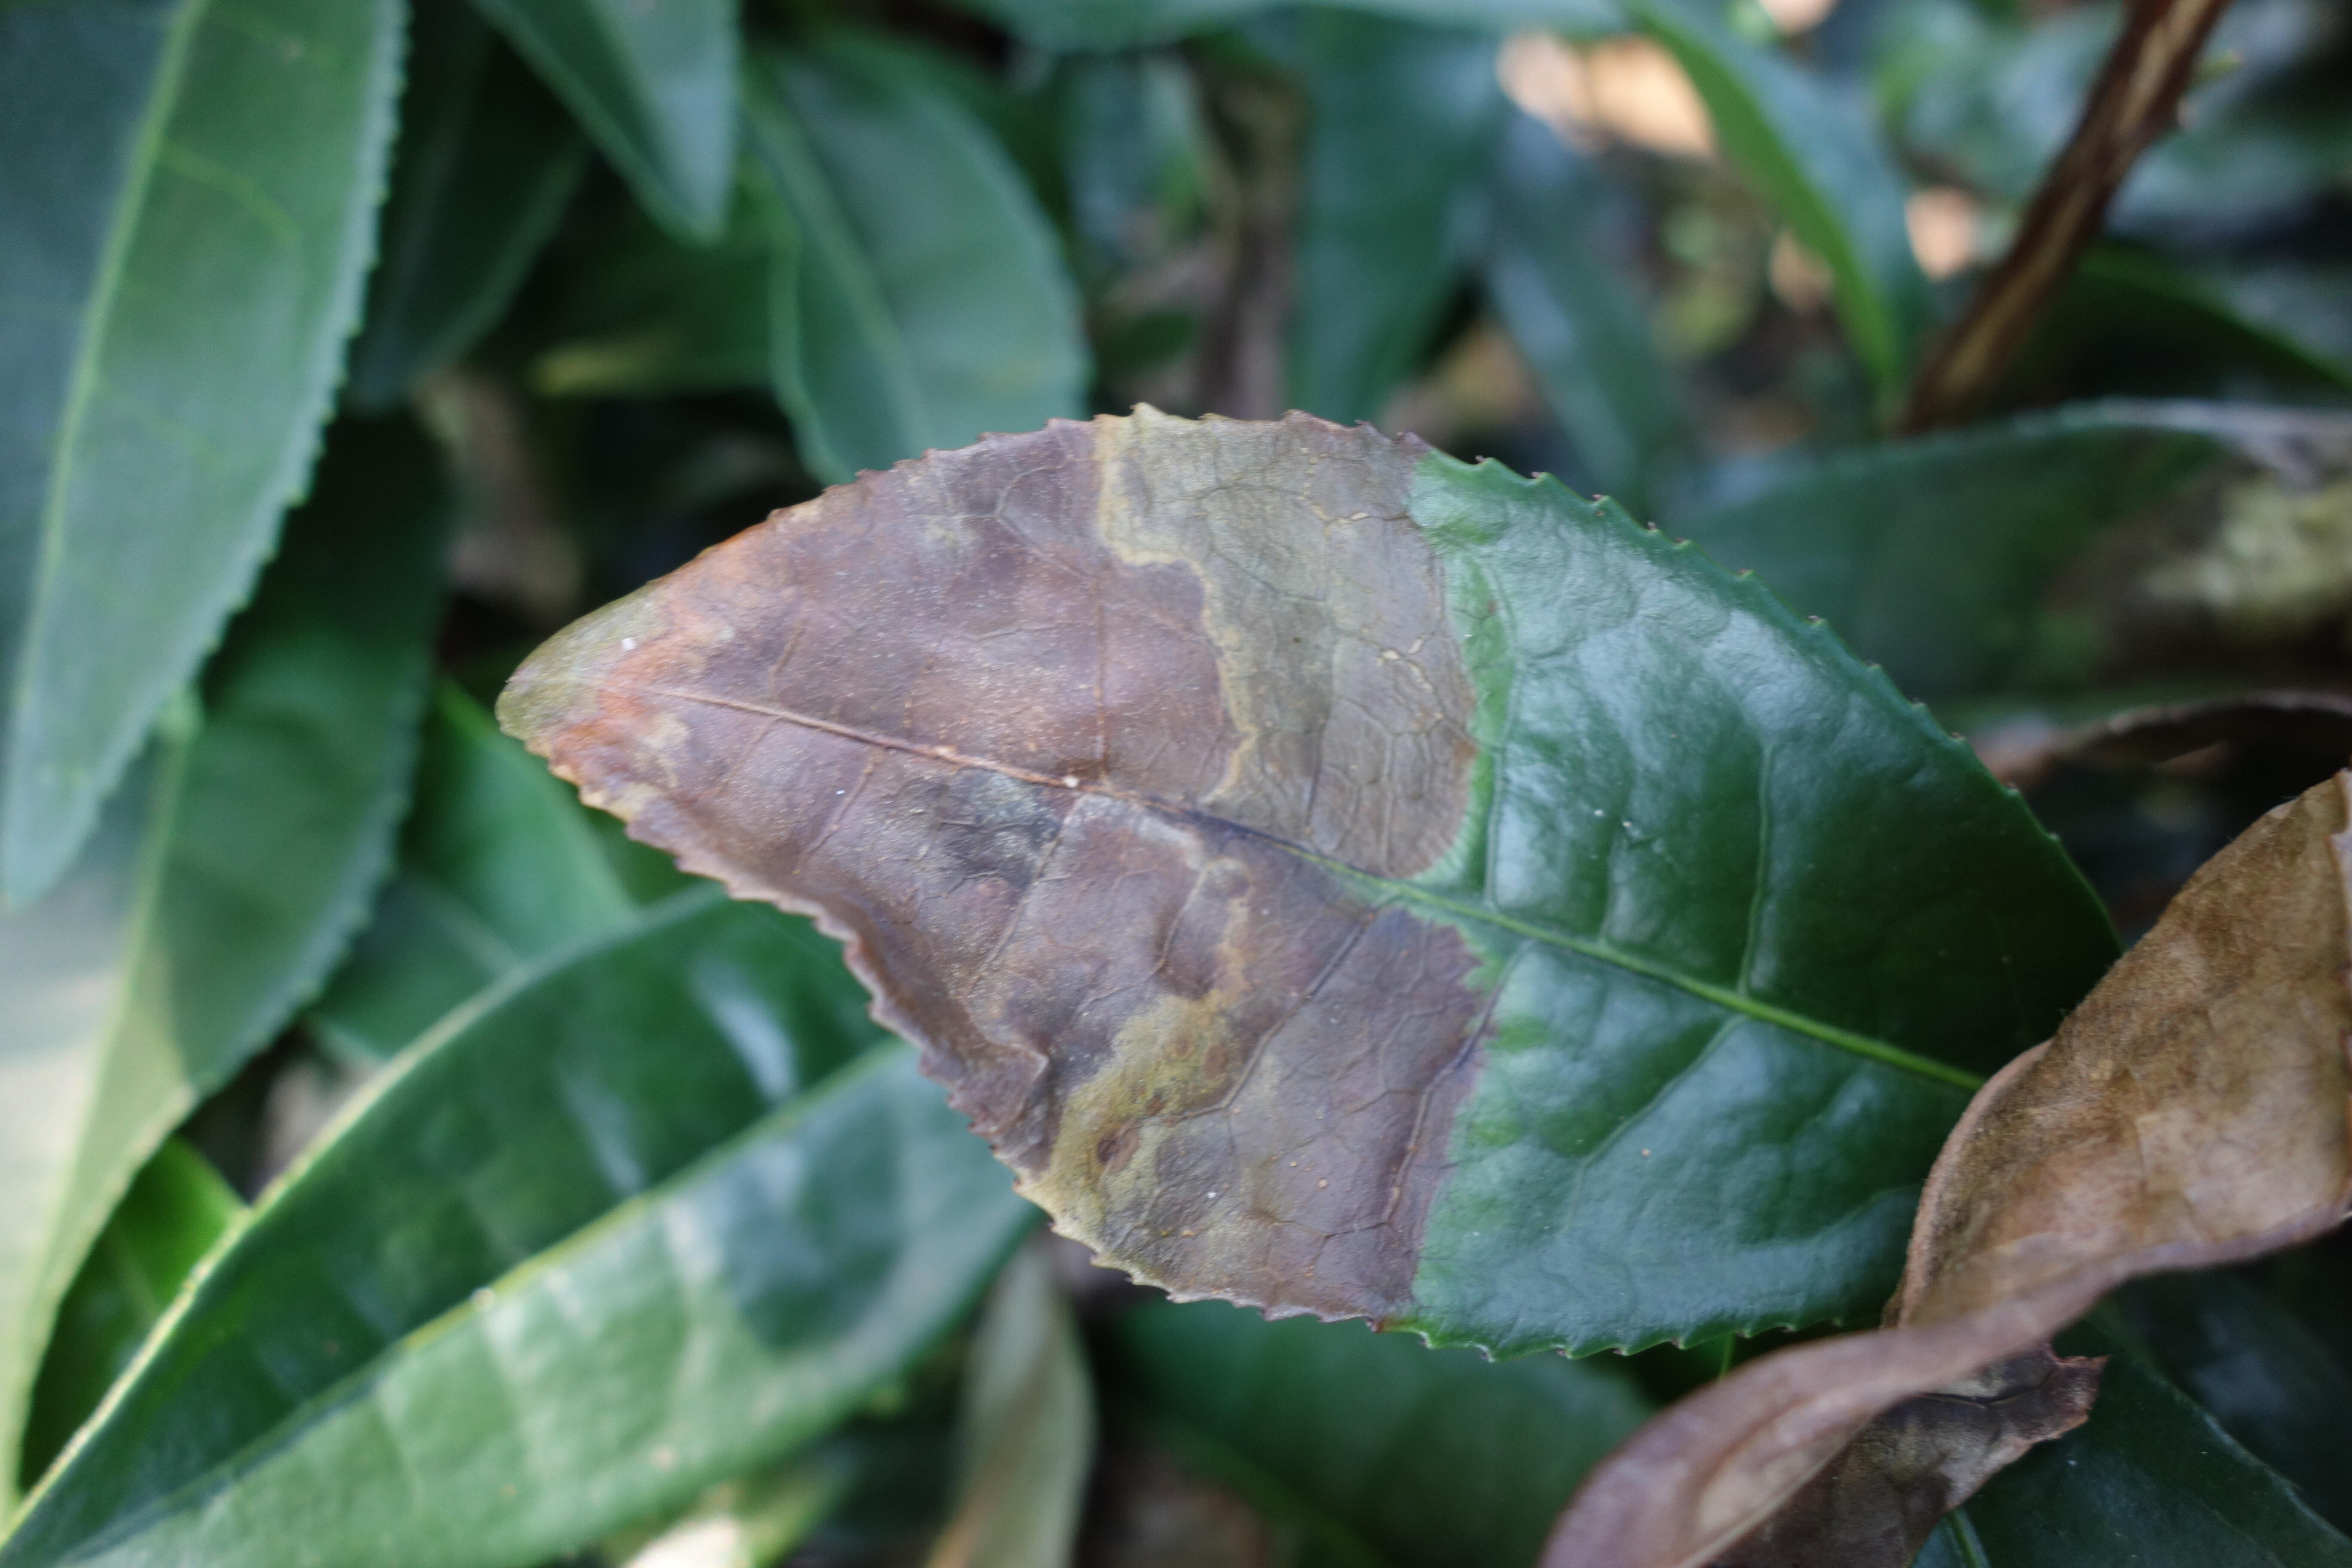tanju_high: (495, 399, 1913, 1368)
